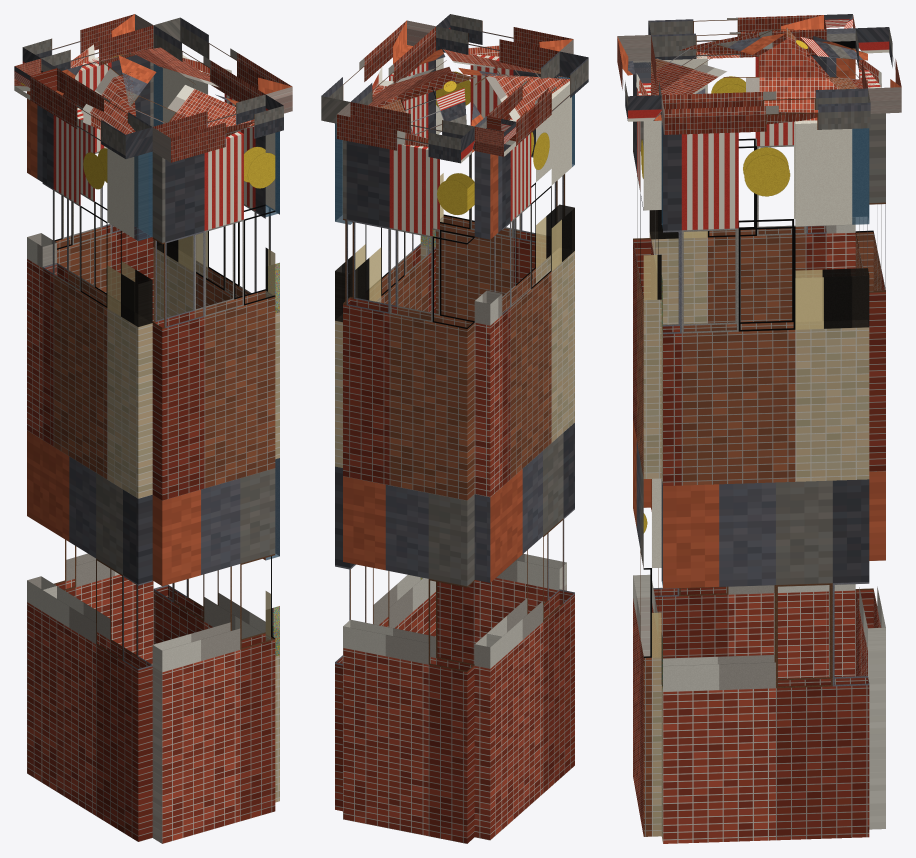
The picture shows the model from 3 angles, left to right: view 1: azimuth 30°, elevation 25°; view 2: azimuth 150°, elevation 25°; view 3: azimuth 270°, elevation 25°; orthographic projection. The views are drawn at different scales.
Visible parts, largest first — view 1: 1107107799__wall_2_xb, 1107107799__wall_3_xb, 1107107799__wall_1_xb, 1107107799__wall_0_xb, 1107107799__wall_4_xb, 1107107799__cornice_1, 1107107799__cornice_3, 1107107799__cornice_2, 1107107799__wall_3_xf, 1107107799__cornice_0, 1107107799__wall_1_xf, 1107107799_roof_front_xb (+4 smaller); view 2: 1107107799__wall_0_xb, 1107107799__wall_3_xb, 1107107799__wall_2_xb, 1107107799__wall_4_xb, 1107107799__wall_1_xb, 1107107799__cornice_0, 1107107799__cornice_1, 1107107799__cornice_2, 1107107799__cornice_3, 1107107799__wall_1_xf, 1107107799__wall_3_xf, 1107107799_roof_right_xb (+4 smaller); view 3: 1107107799__wall_1_xb, 1107107799__wall_3_xb, 1107107799__wall_2_xb, 1107107799__wall_0_xb, 1107107799__cornice_1, 1107107799__wall_1_xf, 1107107799__wall_4_xb, 1107107799__cornice_3, 1107107799_roof_right_xb, 1107107799_roof_front_xb, 1107107799__cornice_2, 1107107799__cornice_0 (+5 smaller).
Boxes of the visible parts, left/top/right/bottom form: 1107107799__wall_2_xb: left=152, top=131, right=275, bottom=843; 1107107799__wall_3_xb: left=42, top=107, right=152, bottom=841; 1107107799__wall_1_xb: left=153, top=55, right=279, bottom=802; 1107107799__wall_0_xb: left=54, top=55, right=153, bottom=664; 1107107799__wall_4_xb: left=27, top=91, right=56, bottom=782; 1107107799__cornice_1: left=153, top=17, right=292, bottom=113; 1107107799__cornice_3: left=30, top=68, right=152, bottom=158; 1107107799__cornice_2: left=152, top=94, right=283, bottom=162; 1107107799__wall_3_xf: left=107, top=152, right=152, bottom=326; 1107107799__cornice_0: left=22, top=14, right=153, bottom=70; 1107107799__wall_1_xf: left=154, top=64, right=279, bottom=655; 1107107799_roof_front_xb: left=118, top=55, right=254, bottom=128; 1107107799__wall_0_xb: left=343, top=140, right=474, bottom=843; 1107107799__wall_3_xb: left=487, top=76, right=574, bottom=829; 1107107799__wall_2_xb: left=436, top=54, right=566, bottom=664; 1107107799__wall_4_xb: left=474, top=151, right=502, bottom=840; 1107107799__wall_1_xb: left=335, top=60, right=435, bottom=811; 1107107799__cornice_0: left=336, top=102, right=474, bottom=163; 1107107799__cornice_1: left=321, top=20, right=435, bottom=123; 1107107799__cornice_2: left=436, top=14, right=573, bottom=71; 1107107799__cornice_3: left=487, top=51, right=588, bottom=145; 1107107799__wall_1_xf: left=335, top=123, right=435, bottom=579; 1107107799__wall_3_xf: left=536, top=77, right=574, bottom=270; 1107107799_roof_right_xb: left=368, top=49, right=475, bottom=107; 1107107799__wall_1_xb: left=661, top=120, right=869, bottom=843; 1107107799__wall_3_xb: left=649, top=54, right=826, bottom=678; 1107107799__wall_2_xb: left=633, top=60, right=661, bottom=836; 1107107799__wall_0_xb: left=855, top=70, right=885, bottom=829; 1107107799__cornice_1: left=661, top=88, right=870, bottom=134; 1107107799__wall_1_xf: left=662, top=125, right=868, bottom=686; 1107107799__wall_4_xb: left=825, top=57, right=855, bottom=677; 1107107799__cornice_3: left=648, top=15, right=826, bottom=59; 1107107799_roof_right_xb: left=654, top=27, right=838, bottom=120; 1107107799_roof_front_xb: left=651, top=33, right=785, bottom=115; 1107107799__cornice_2: left=617, top=35, right=661, bottom=121; 1107107799__cornice_0: left=855, top=27, right=901, bottom=113.
Size of the model in its own units: 0.2002 by 0.7421 by 0.2521.
1 material, 1 textured.
